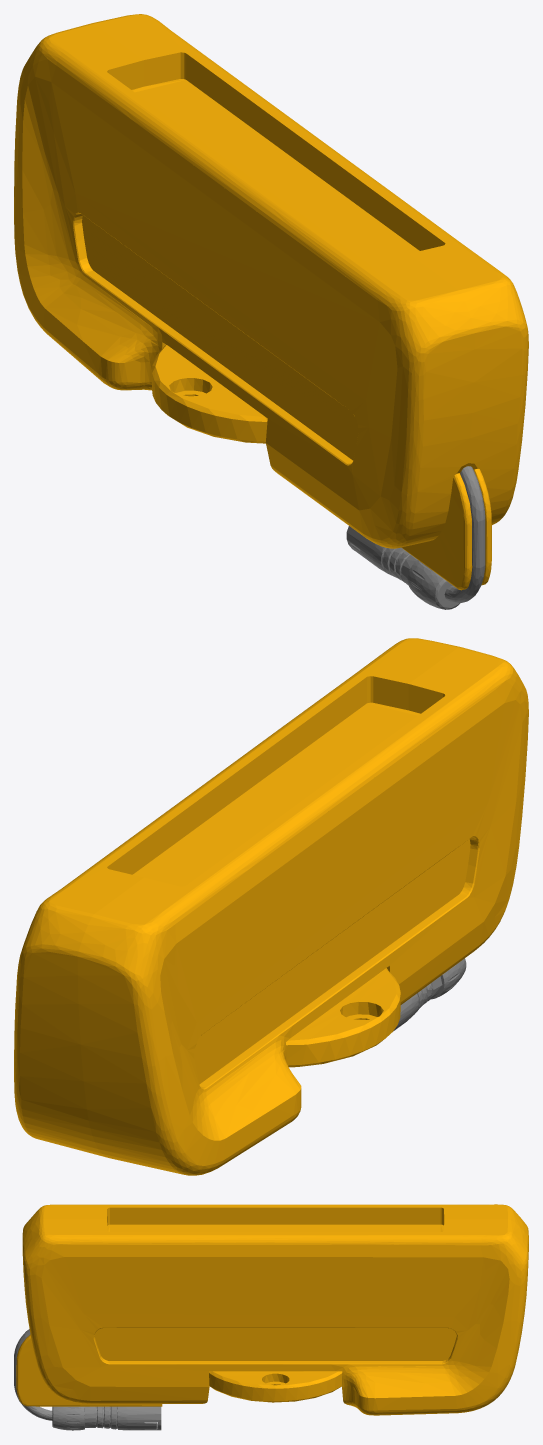
The model's file is hand.dae.
3 views of the same model, one above another, from view 1: azimuth 30°, elevation 25°; view 2: azimuth 150°, elevation 25°; view 3: azimuth 270°, elevation 25° (orthographic). The views are drawn at different scales.
Parts seen in each view (by area): view 1: node5, node5_001, node2, node0, node1; view 2: node5, node5_001, node2, node0; view 3: node5, node5_001, node2, node0, node1.
Part boxes in pixels (x1=…): node5: x1=14, y1=14, x2=528, y2=590; node5_001: x1=82, y1=215, x2=358, y2=460; node2: x1=152, y1=344, x2=267, y2=443; node0: x1=346, y1=526, x2=459, y2=609; node1: x1=444, y1=466, x2=485, y2=603; node5: x1=14, y1=638, x2=528, y2=1175; node5_001: x1=194, y1=839, x2=470, y2=1084; node2: x1=286, y1=968, x2=400, y2=1067; node0: x1=393, y1=958, x2=466, y2=1031; node5: x1=16, y1=1204, x2=528, y2=1415; node5_001: x1=94, y1=1328, x2=456, y2=1360; node2: x1=209, y1=1371, x2=342, y2=1402; node0: x1=52, y1=1406, x2=161, y2=1430; node1: x1=14, y1=1329, x2=52, y2=1420.
Size of the model in its own units: 0.063 by 0.2045 by 0.0919.
